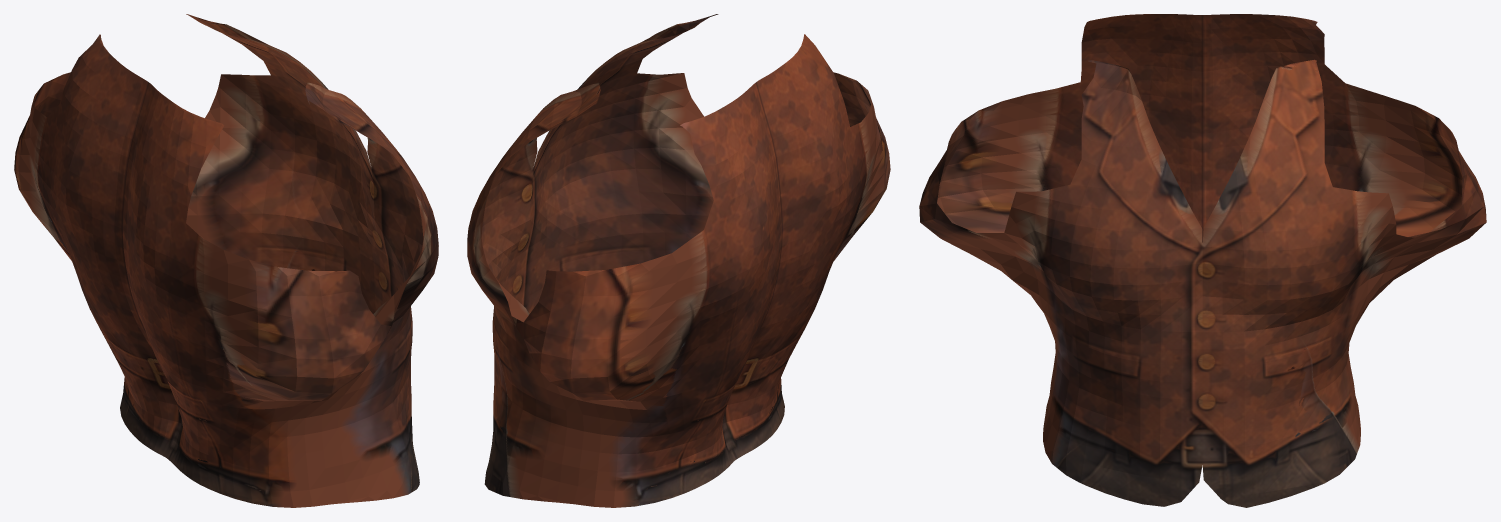
File: bold_cowboy_made_vest.glb
The picture shows the model from 3 angles, left to right: view 1: azimuth 30°, elevation 25°; view 2: azimuth 150°, elevation 25°; view 3: azimuth 270°, elevation 25°; orthographic projection. The views are drawn at different scales.
Parts seen in each view (by area): view 1: vest; view 2: vest; view 3: vest.
Part boxes in pixels (x1=…): vest: x1=14, y1=14, x2=438, y2=507; vest: x1=467, y1=14, x2=890, y2=507; vest: x1=919, y1=14, x2=1486, y2=507.
Size of the model in its own units: 0.193 by 0.2702 by 0.3594.
1 material, 1 textured.
